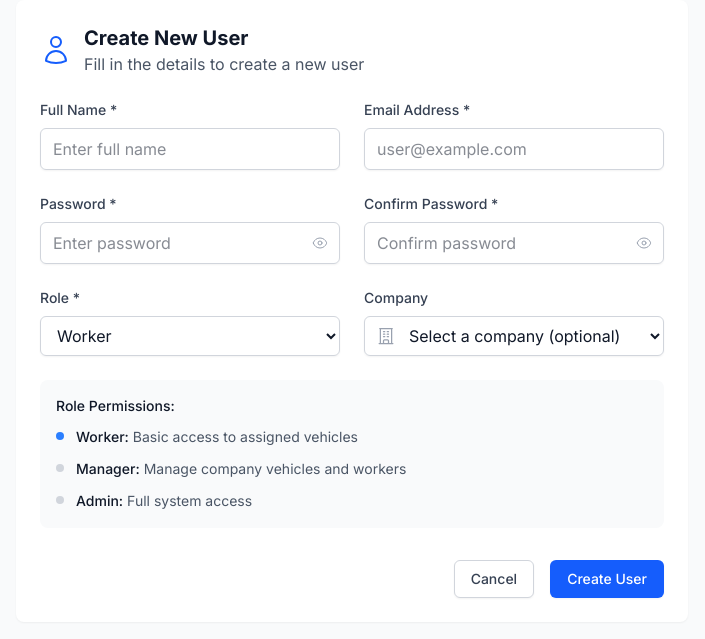
Scenario: UserForm › rejects short passwords and mismatches
Check: the heading "Create New User" is shown, box [84,26,248,50]
Type "N" into the field with placeholder "Enter full name" at (190, 149), box [40,128,340,170]
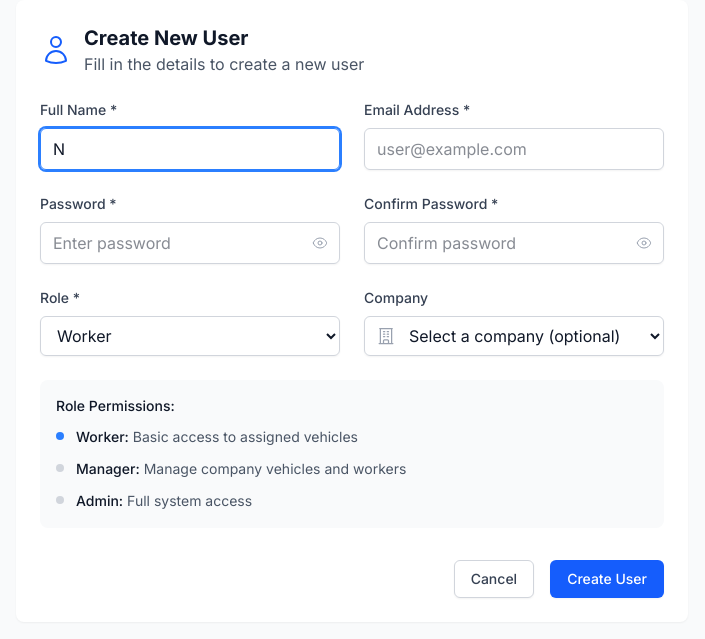
Type "n@example.com" into the field with placeholder "user@example.com" at (514, 149), box [364,128,664,170]
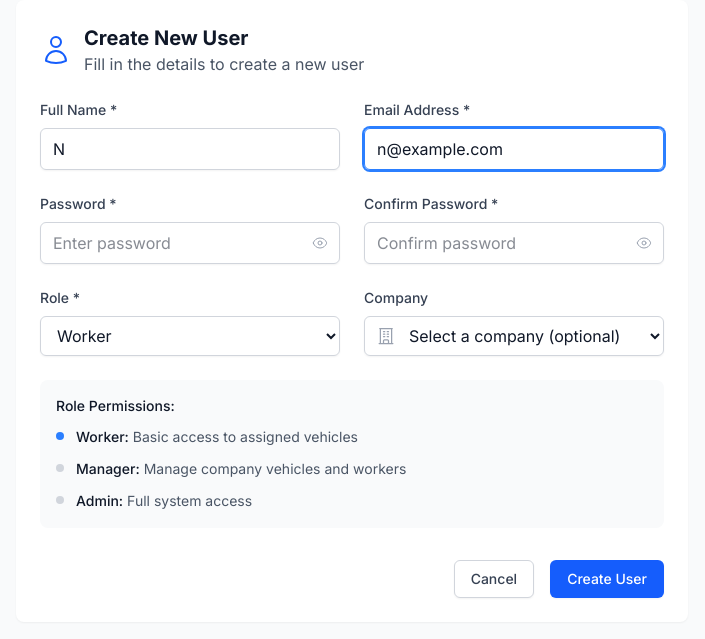
Type "short" into the password field with placeholder "Enter password" at (190, 243), box [40,222,340,264]
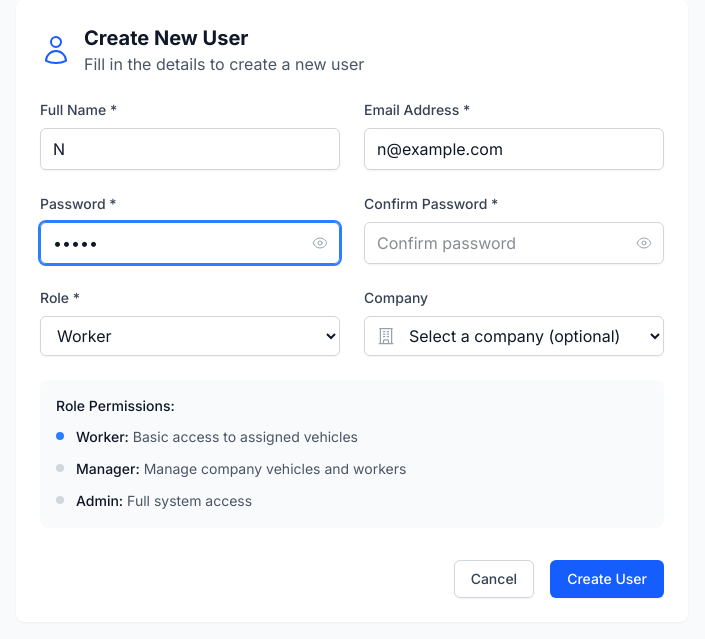
Type "different" into the password field with placeholder "Confirm password" at (514, 243), box [364,222,664,264]
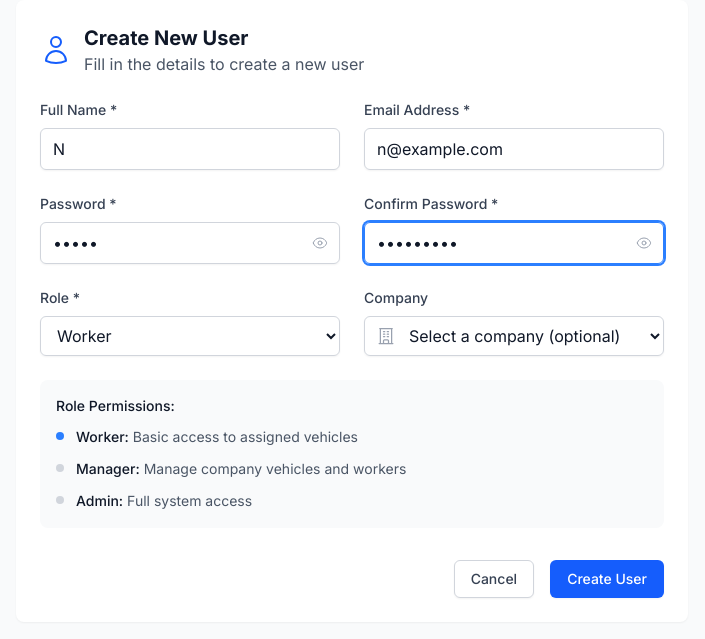
Submit the form
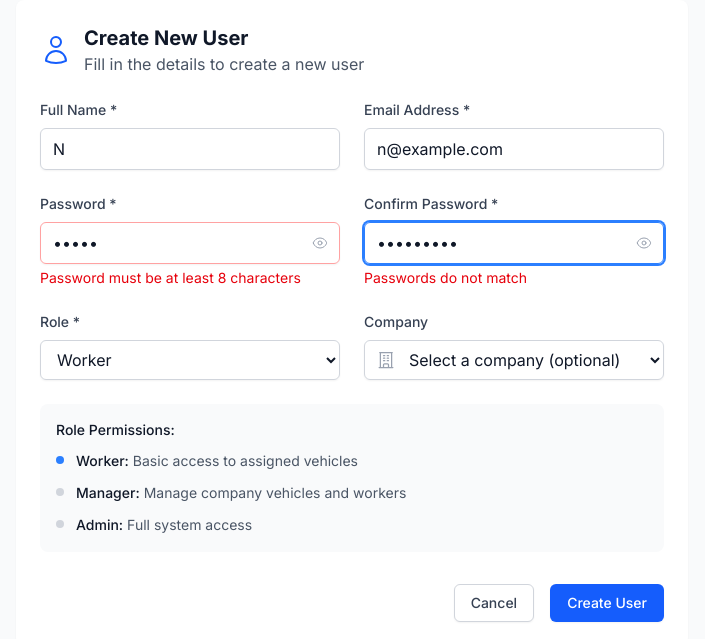
Check: the text "Password must be at least 8 characters" is shown, box [40,268,340,288]
Check: the text "Passwords do not match" is shown, box [364,269,527,286]
